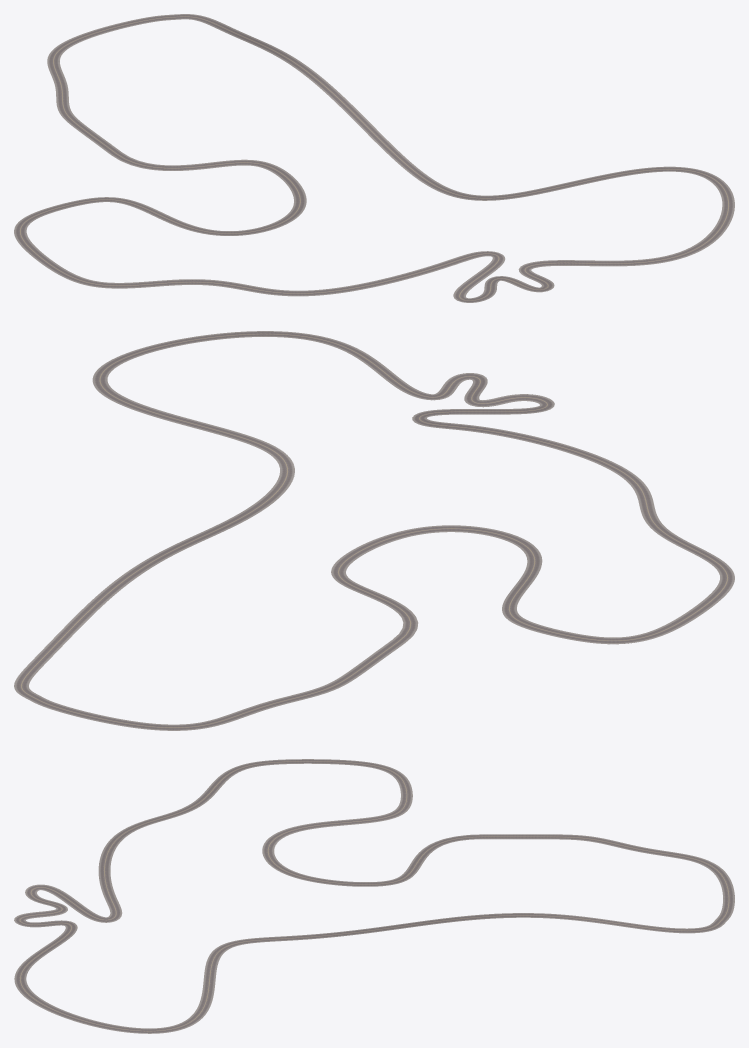
The model's file is demoRoad.glb.
3 views of the same model, one above another, from view 1: azimuth 30°, elevation 25°; view 2: azimuth 150°, elevation 25°; view 3: azimuth 270°, elevation 25° (orthographic). The views are drawn at different scales.
Parts seen in each view (by area): view 1: Plane; view 2: Plane; view 3: Plane.
Part boxes in pixels (x1,y1,x2,y2): Plane: (14,14,734,302); Plane: (14,331,734,730); Plane: (14,759,734,1033).
Bounding box in the file's own units: 950 × 35.92 × 1053.
1 material, 1 textured.
